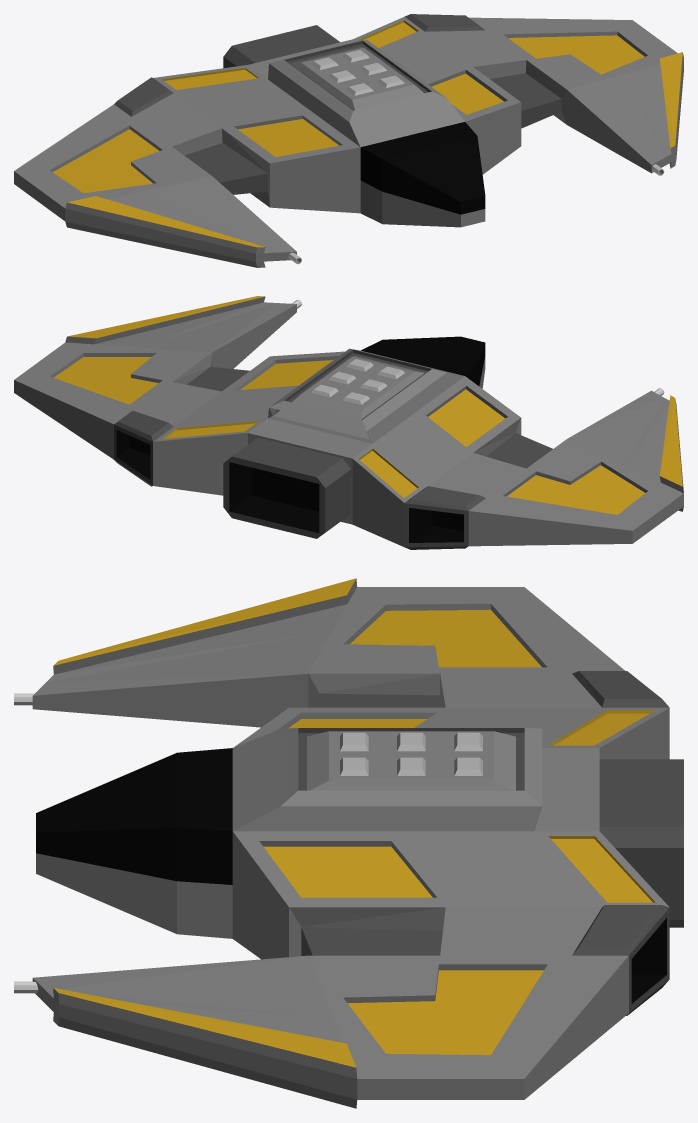
The model's file is Spaceship3_1.fbx.
3 views of the same model, one above another, from view 1: azimuth 30°, elevation 25°; view 2: azimuth 150°, elevation 25°; view 3: azimuth 270°, elevation 25° (orthographic). The views are drawn at different scales.
Parts seen in each view (by area): view 1: Spaceship3_1; view 2: Spaceship3_1; view 3: Spaceship3_1.
Part boxes in pixels (x1=…): Spaceship3_1: x1=14, y1=14, x2=683, y2=267; Spaceship3_1: x1=14, y1=296, x2=683, y2=549; Spaceship3_1: x1=14, y1=578, x2=683, y2=1108.
Size of the model in its own units: 1183 by 164 by 681.
